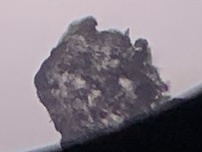microplastic: (32, 15, 177, 145)
